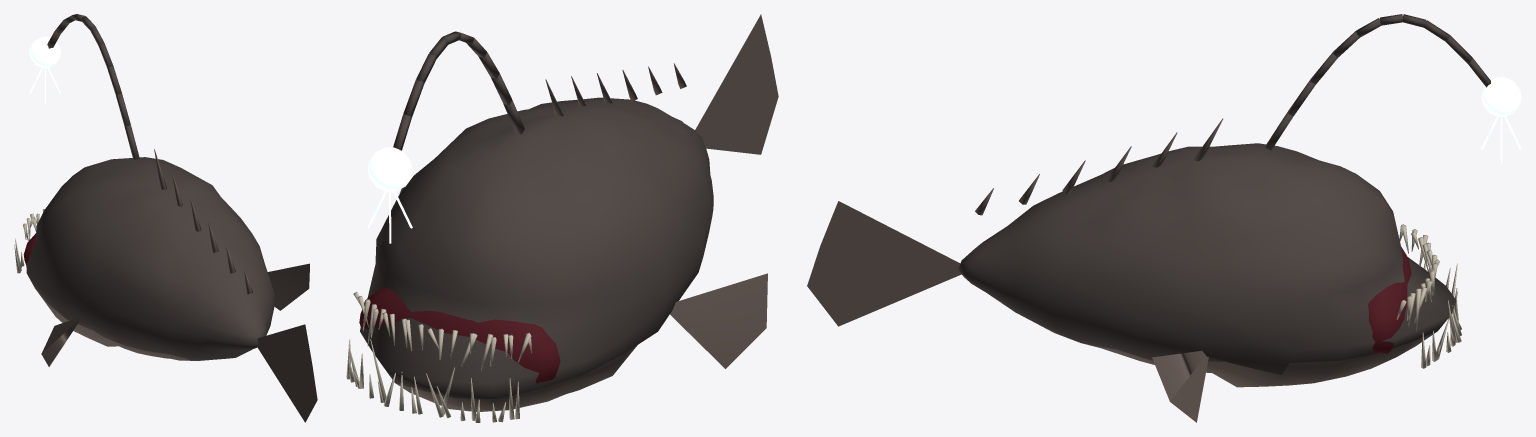
Rendered from l3-creatures.glb.
The picture shows the model from 3 angles, left to right: view 1: azimuth 30°, elevation 25°; view 2: azimuth 150°, elevation 25°; view 3: azimuth 270°, elevation 25°; orthographic projection. The views are drawn at different scales.
Parts seen in each view (by area): view 1: ANGLER; view 2: ANGLER; view 3: ANGLER.
Part boxes in pixels (left/top/right/bottom): ANGLER: left=14, top=14, right=317, bottom=422; ANGLER: left=346, top=14, right=778, bottom=422; ANGLER: left=807, top=14, right=1521, bottom=422.
Size of the model in its own units: 0.8801 by 0.8819 by 1.6.
